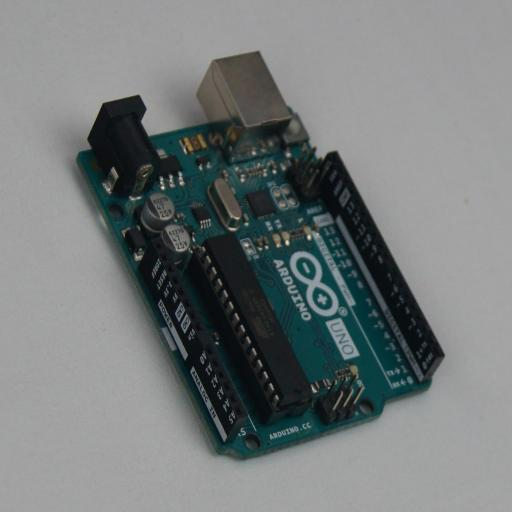Arduino Uno -Green-: (73, 51, 445, 461)
